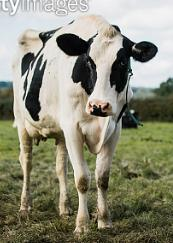cow: (13, 16, 157, 234)
